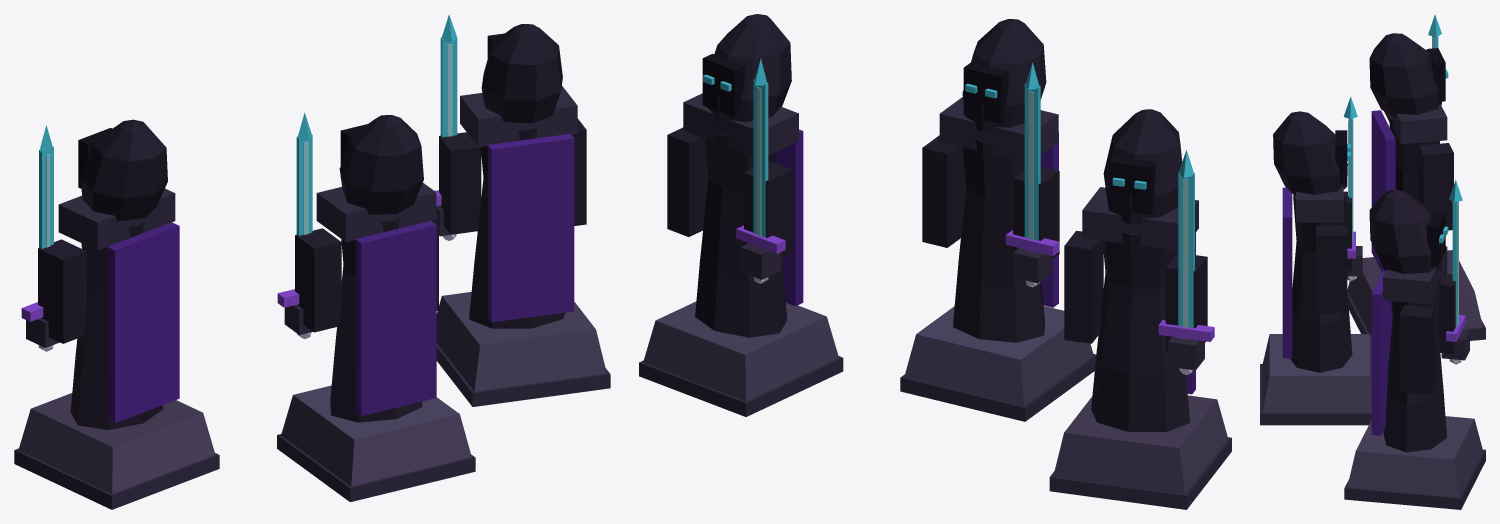
Rendered from Decor_VoidPortal_Statues.fbx.
3 renders of one model, left to right at view 1: azimuth 30°, elevation 25°; view 2: azimuth 150°, elevation 25°; view 3: azimuth 270°, elevation 25°, orthographic. The views are drawn at different scales.
Parts seen in each view (by area): view 1: Statues_Body; view 2: Statues_Body; view 3: Statues_Body.
Part boxes in pixels (<box>): Statues_Body: <box>14,14,610,509</box>; Statues_Body: <box>639,14,1231,509</box>; Statues_Body: <box>1260,14,1485,509</box>.
Bounding box in the file's own units: 21 × 12.7 × 9.
